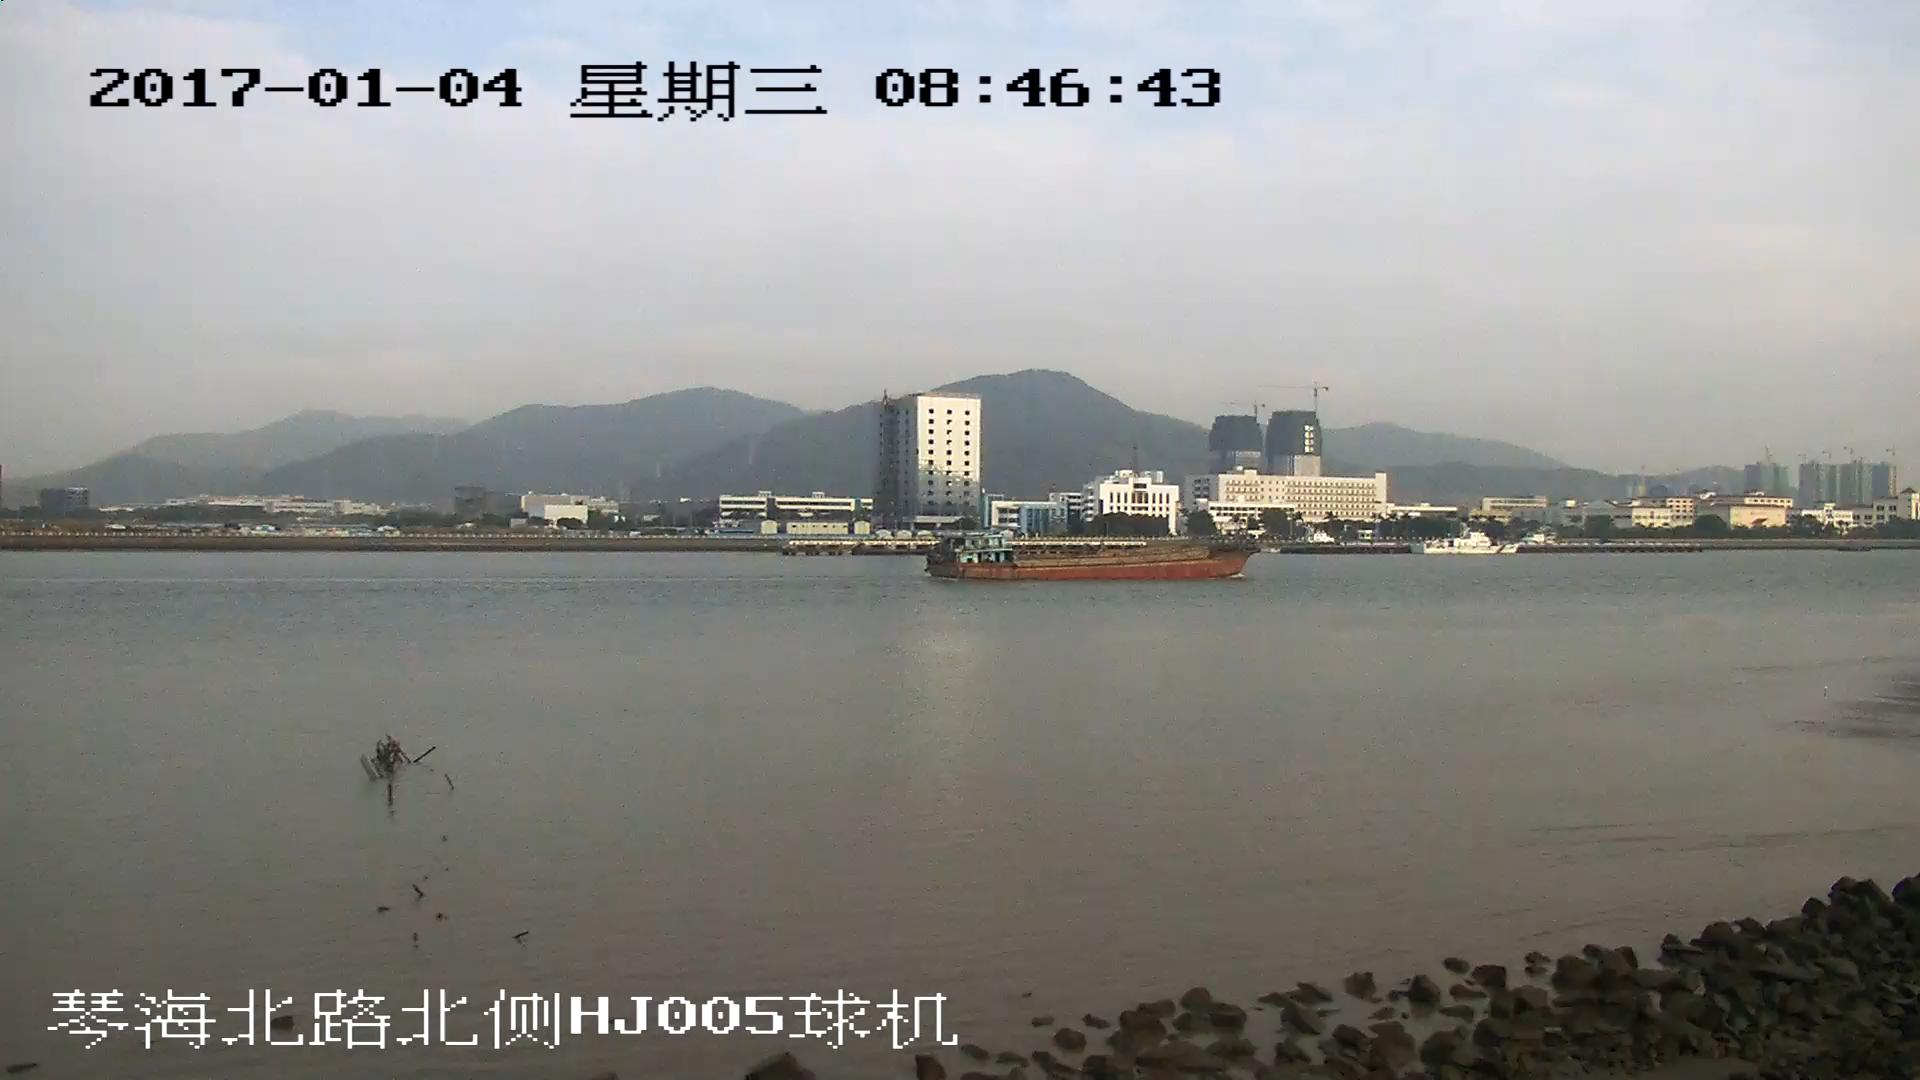bulk cargo carrier: (929, 533, 1256, 580)
